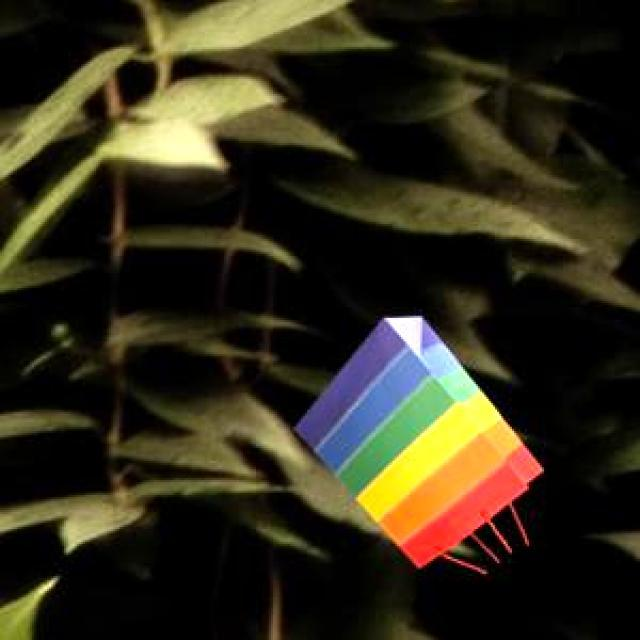Paper_Bag: (291, 314, 539, 564)
